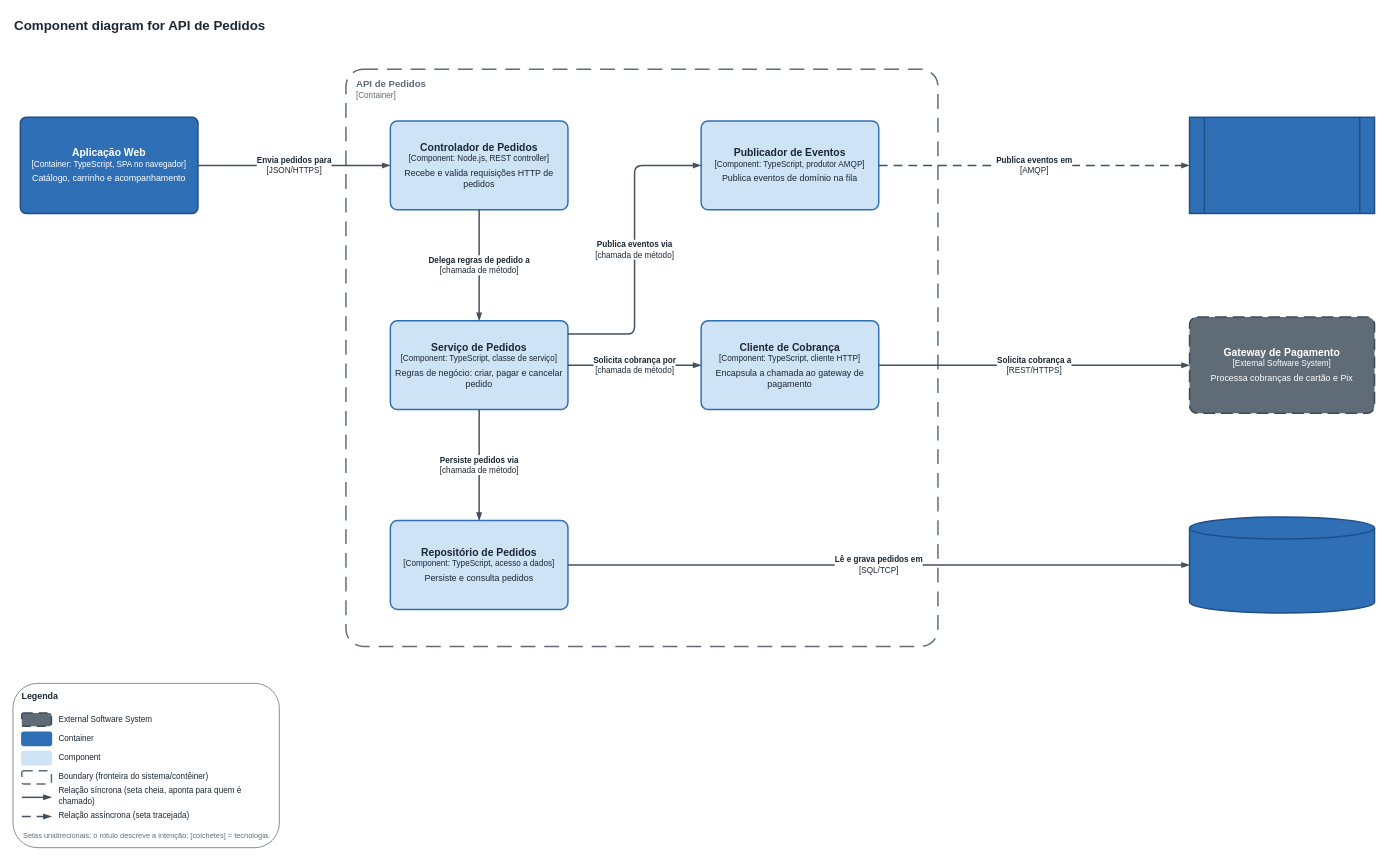
The diagram is 1388 pixels wide and 861 high, and some of its shapes have lost their labels. Each missing label, with the centre of its shape:
"Banco de Pedidos [Container: PostgreSQL] Pedidos, itens e histórico" goes at pixel 1281 564.
"Fila de Eventos [Container: Mensageria AMQP] Eventos de pedido" goes at pixel 1281 165.
